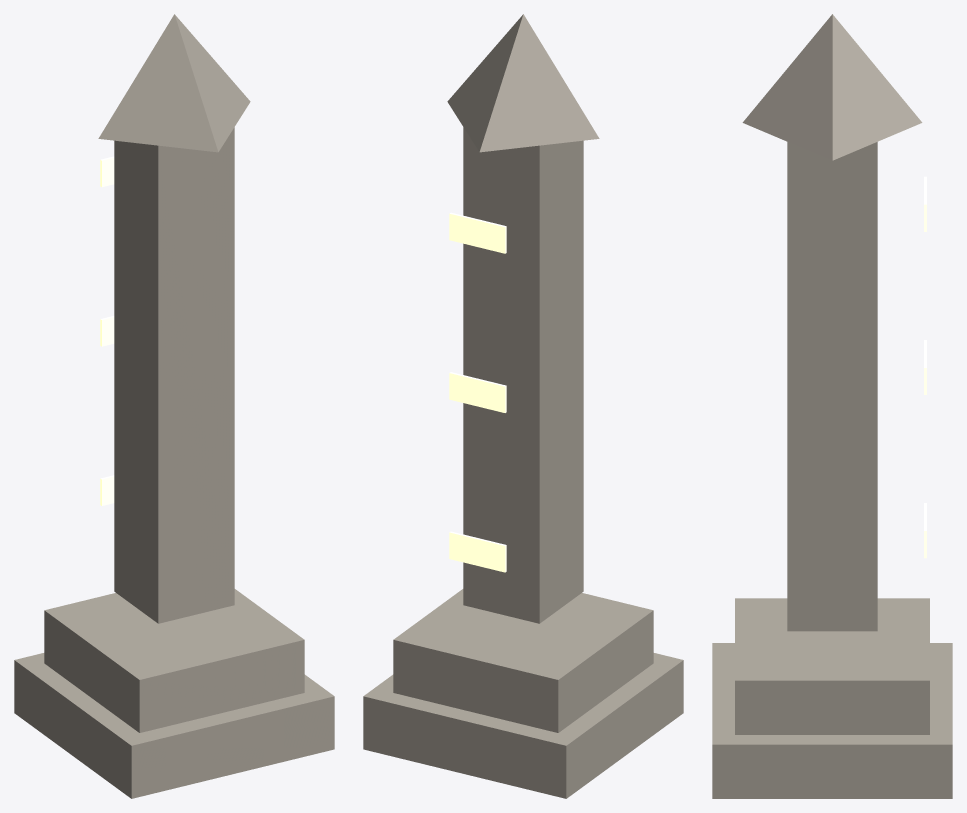
The model's file is CarvedStoneObelisk.fbx.
3 renders of one model, left to right at view 1: azimuth 30°, elevation 25°; view 2: azimuth 150°, elevation 25°; view 3: azimuth 270°, elevation 25°, orthographic. The views are drawn at different scales.
Parts seen in each view (by area): view 1: CarvedStoneObelisk; view 2: CarvedStoneObelisk; view 3: CarvedStoneObelisk.
Boxes of the visible parts, x1,y1,x2,y2 form: CarvedStoneObelisk: (14,14,334,798); CarvedStoneObelisk: (363,14,683,798); CarvedStoneObelisk: (712,14,952,798).
Bounding box in the file's own units: 80 × 270 × 80.
